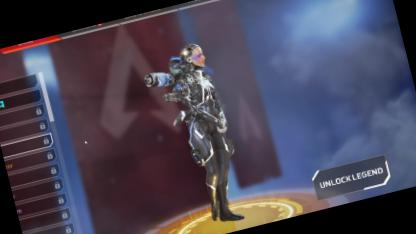Target: (158, 38, 240, 190)
